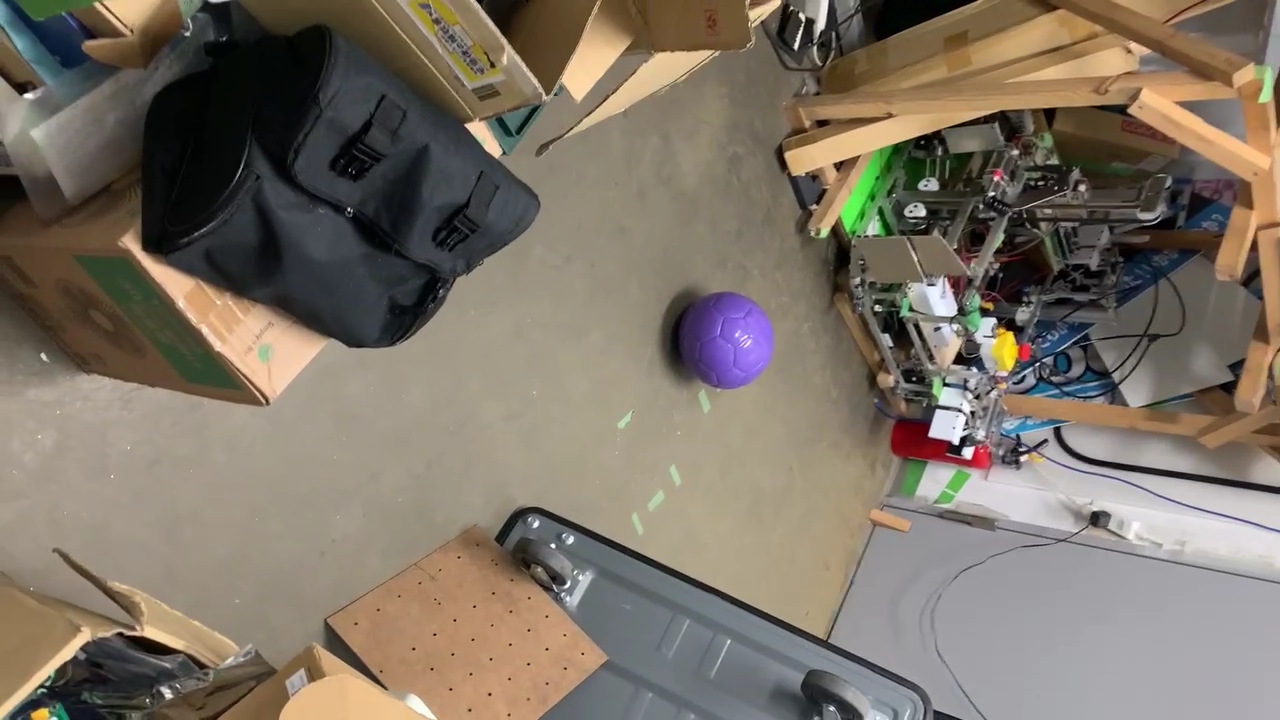purple: (678, 294, 773, 391)
